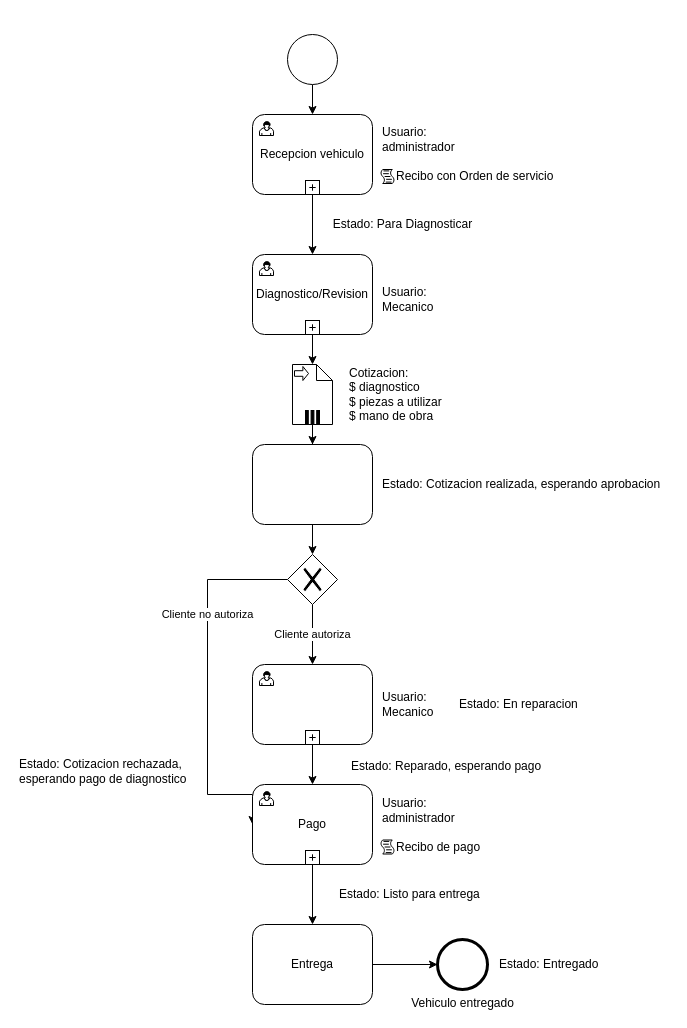
Image size: 687x1028. Some labels were removed from this diagram. Each missing label, with the centre of its shape:
Cliente solicita servicio: point (312, 59)
Reparacion: point (312, 704)
Solicitar autorizacion al cliente: point (312, 484)
